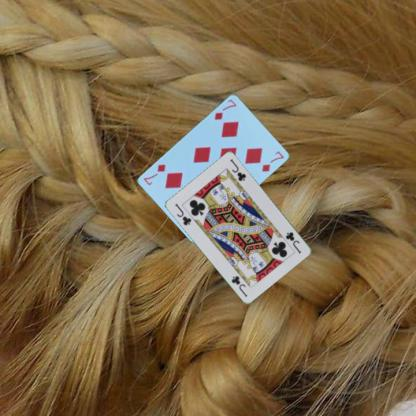7d: (212, 96, 238, 121)
Jc: (283, 229, 303, 255), (173, 201, 193, 227)
